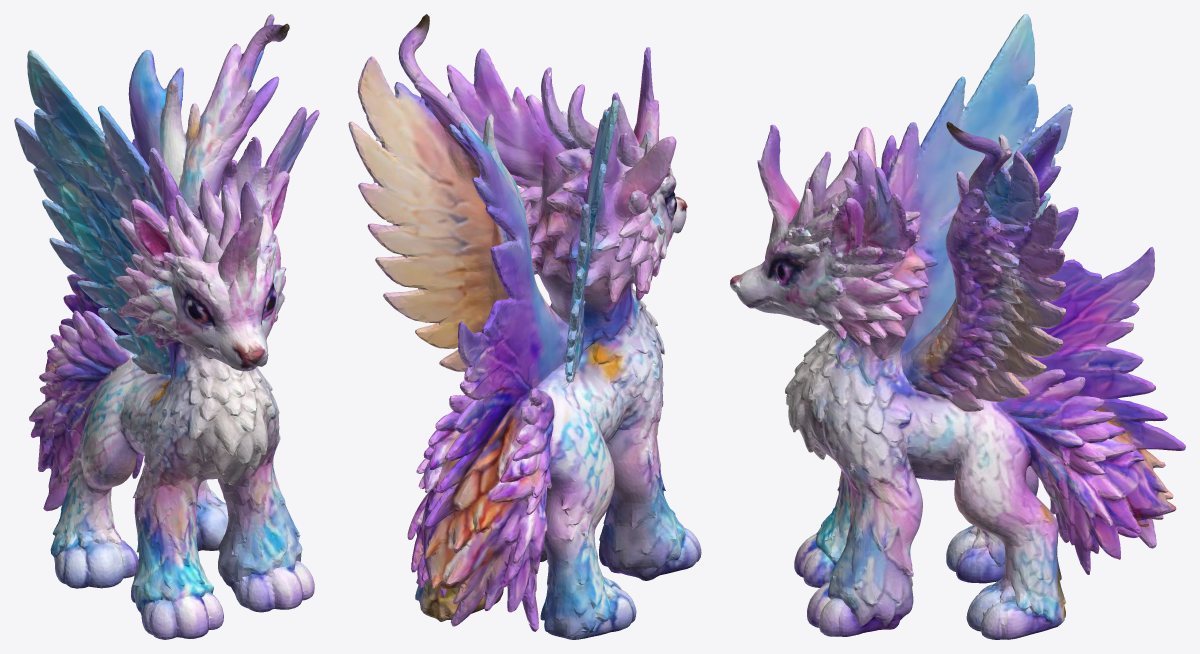
File: crystalyn.glb
3 renders of one model, left to right at view 1: azimuth 30°, elevation 25°; view 2: azimuth 150°, elevation 25°; view 3: azimuth 270°, elevation 25°, orthographic. The views are drawn at different scales.
Parts seen in each view (by area): view 1: plush; view 2: plush; view 3: plush.
Part boxes in pixels (bbox=[...]): plush: bbox=[14, 14, 319, 639]; plush: bbox=[348, 14, 701, 639]; plush: bbox=[730, 14, 1185, 639].
Size of the model in its own units: 0.4804 by 0.98 by 0.7588.
1 material, 1 textured.
